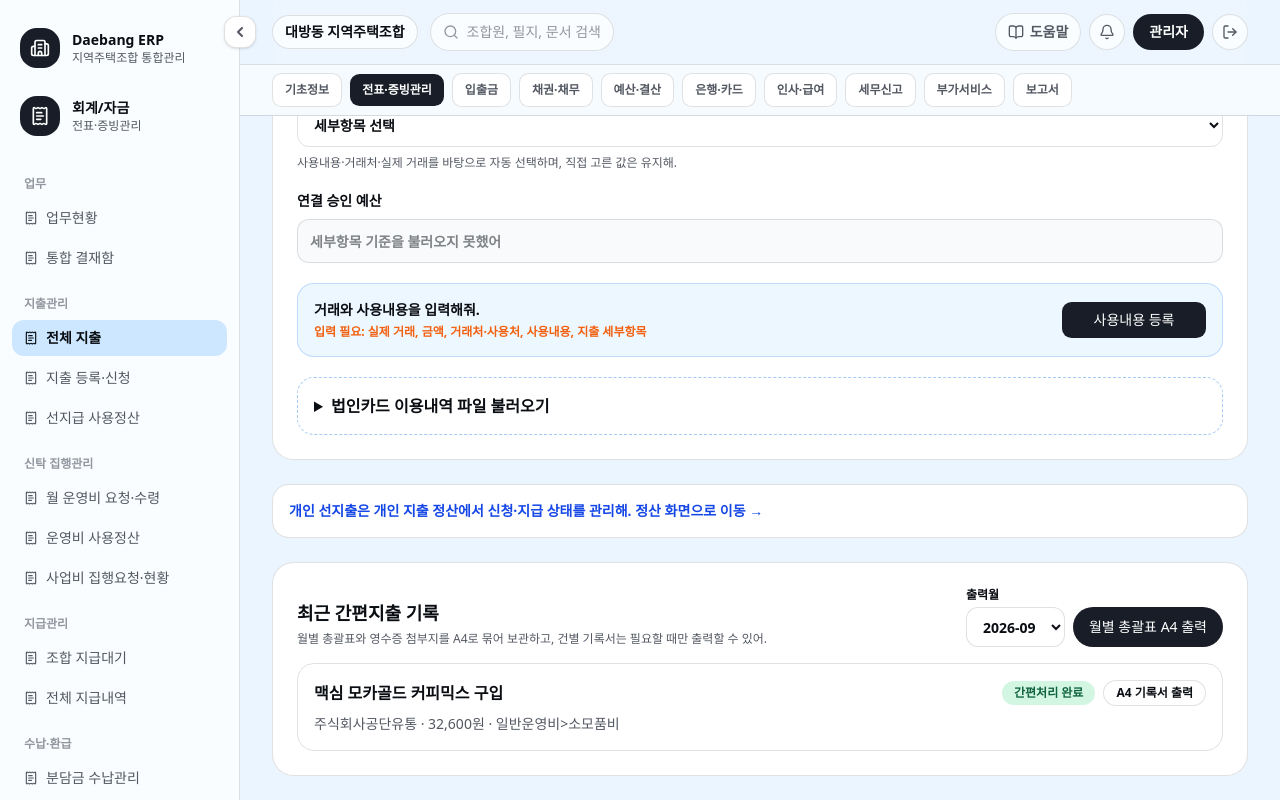
Test case: QuickExpensePage › opens an A4 record sheet with stable management and reconciliation details
(page scrolled)
Click the button "A4 기록서 출력" at point(1155, 693), box [1103,680,1206,706]
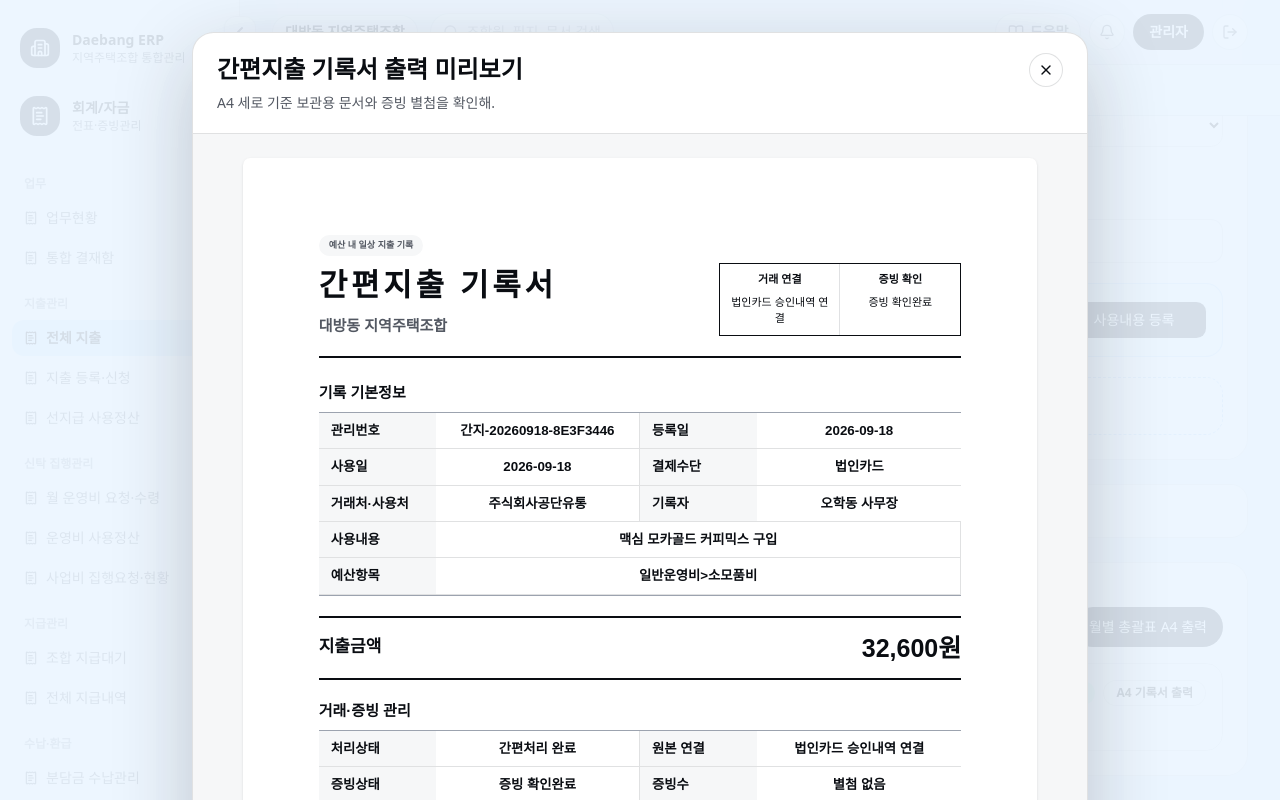
Now the text "간지-20260918-8E3F3446" is shown, box [460,423,614,438]
Now the text "법인카드 승인내역 연결" below "거래 연결" is shown, box [731,296,828,324]
Now the text "32,600원" is shown, box [862,630,961,666]
